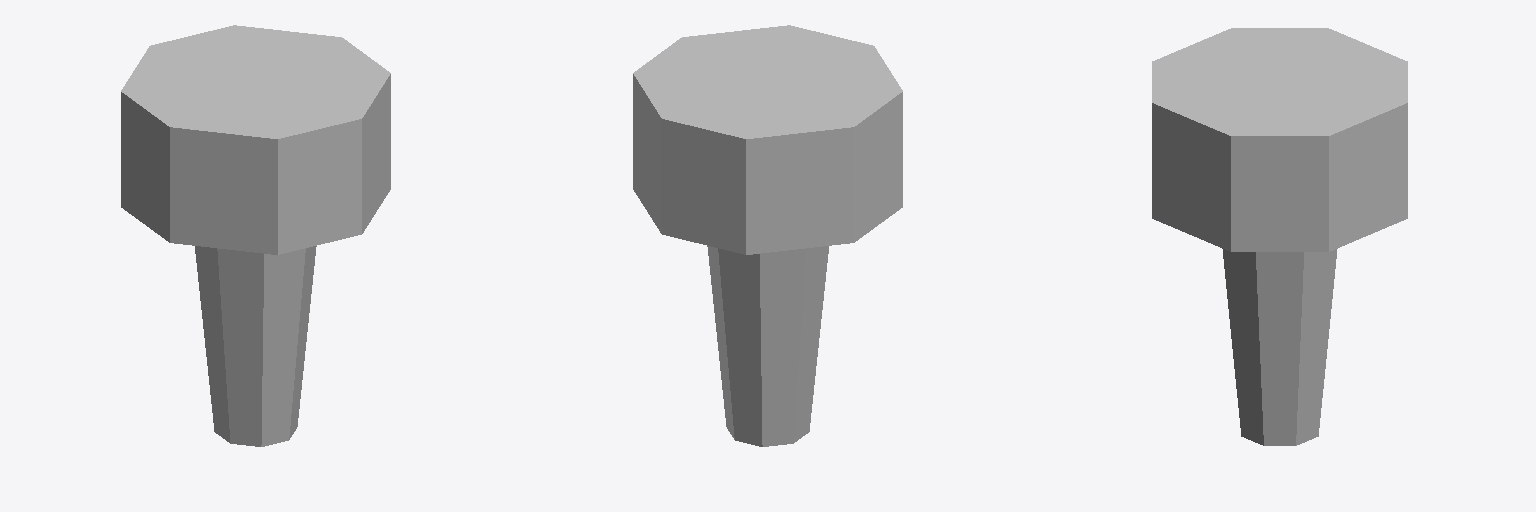
The model's file is collar.obj.
3 renders of one model, left to right at view 1: azimuth 30°, elevation 25°; view 2: azimuth 150°, elevation 25°; view 3: azimuth 270°, elevation 25°, orthographic.
Visible parts, largest first — view 1: Box02; view 2: Box02; view 3: Box02.
Part boxes in pixels (x1,y1,x2,y2): Box02: (121, 25, 390, 446); Box02: (633, 25, 902, 446); Box02: (1152, 28, 1407, 445).
Bounding box in the file's own units: 2 × 3 × 2.